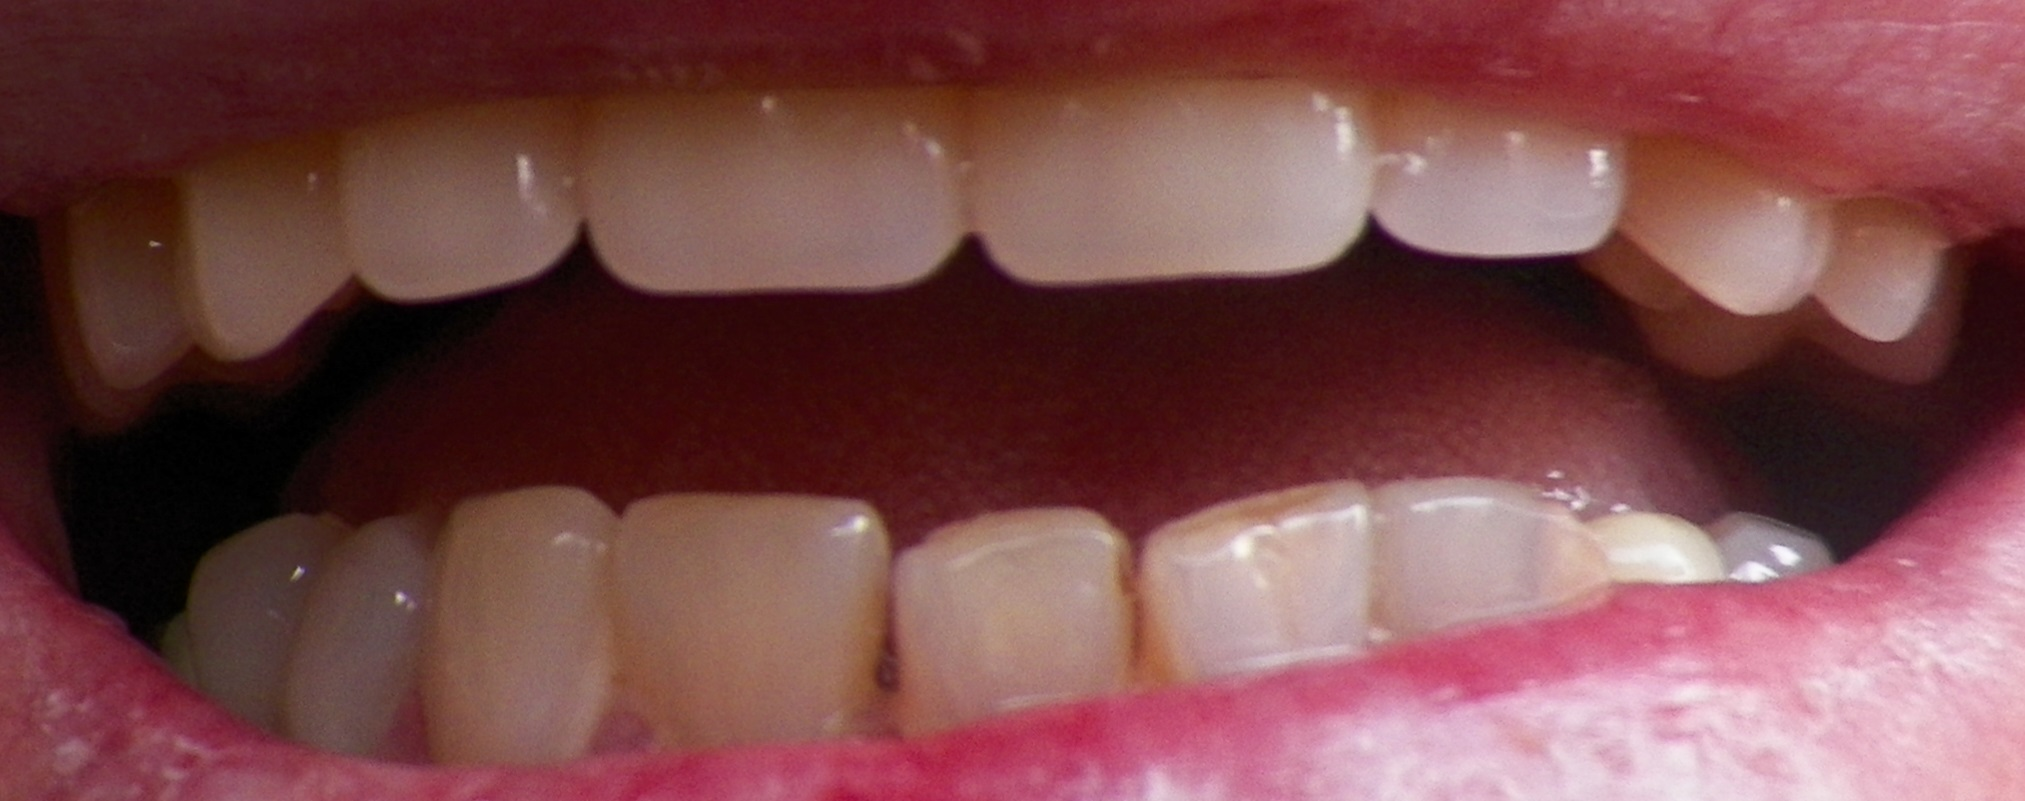boca: (49, 111, 1922, 761)
